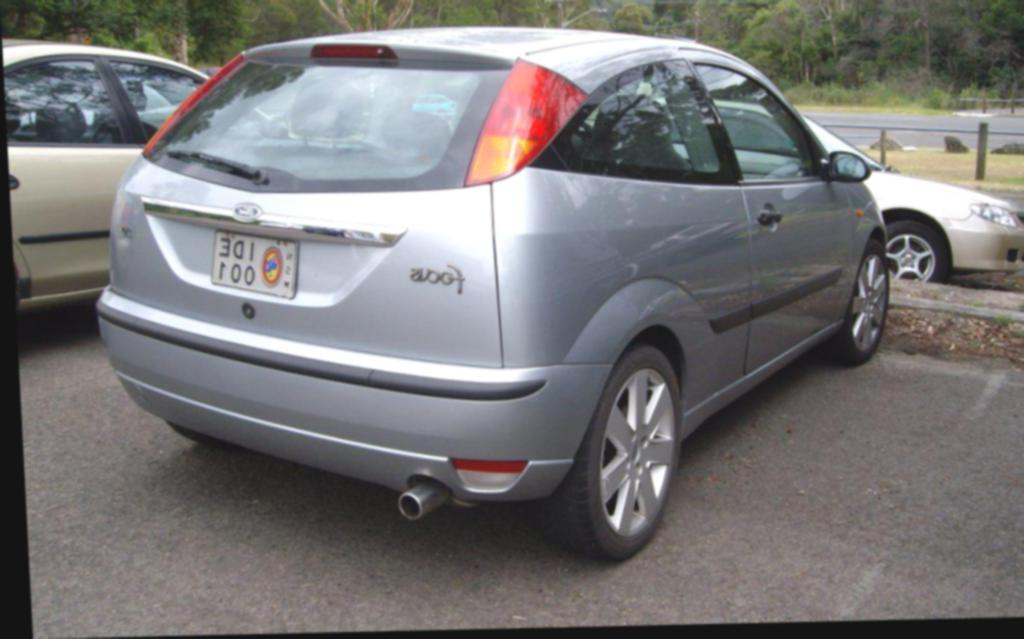License_Plate: (207, 231, 302, 302)
